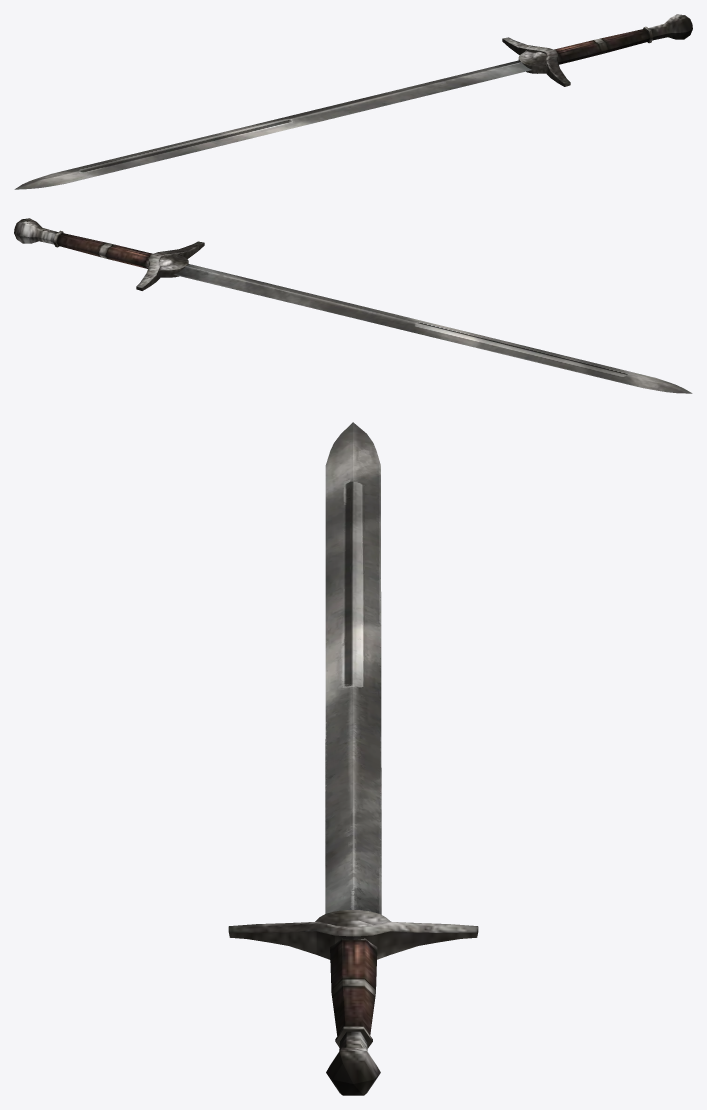
File: ITMW_2H_OLDSWORD_02.glb
3 views of the same model, one above another, from view 1: azimuth 30°, elevation 25°; view 2: azimuth 150°, elevation 25°; view 3: azimuth 270°, elevation 25° (orthographic). The views are drawn at different scales.
Parts seen in each view (by area): view 1: ITMW_2H_OLDSWORD_02; view 2: ITMW_2H_OLDSWORD_02; view 3: ITMW_2H_OLDSWORD_02.
Boxes of the visible parts, x1,y1,x2,y2 form: ITMW_2H_OLDSWORD_02: (14,14,692,189); ITMW_2H_OLDSWORD_02: (14,218,692,393); ITMW_2H_OLDSWORD_02: (228,422,478,1095).
Size of the model in its own units: 1.46 by 0.0421 by 0.2331.
2 materials, 2 textured.
